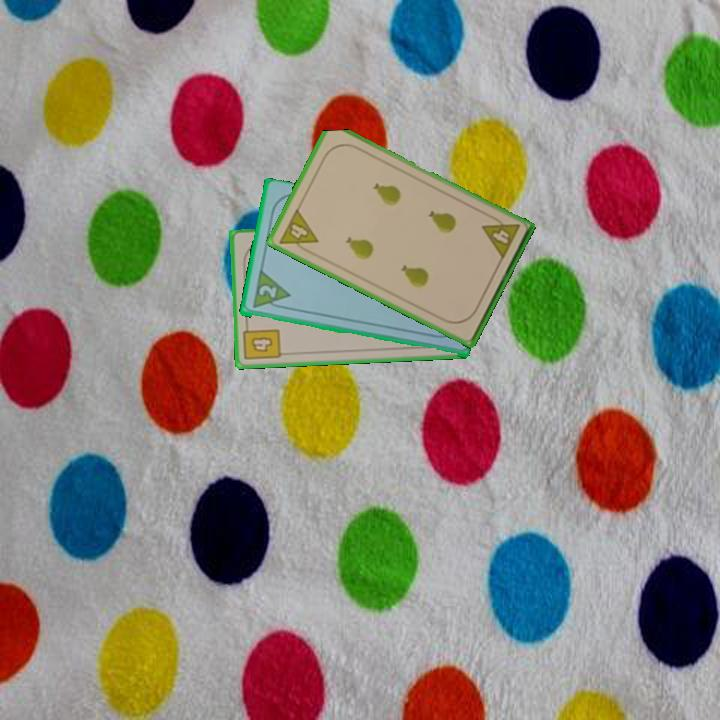2p: (255, 282, 279, 302)
4b: (240, 319, 283, 363)
4p: (275, 205, 321, 257), (478, 211, 522, 262)
